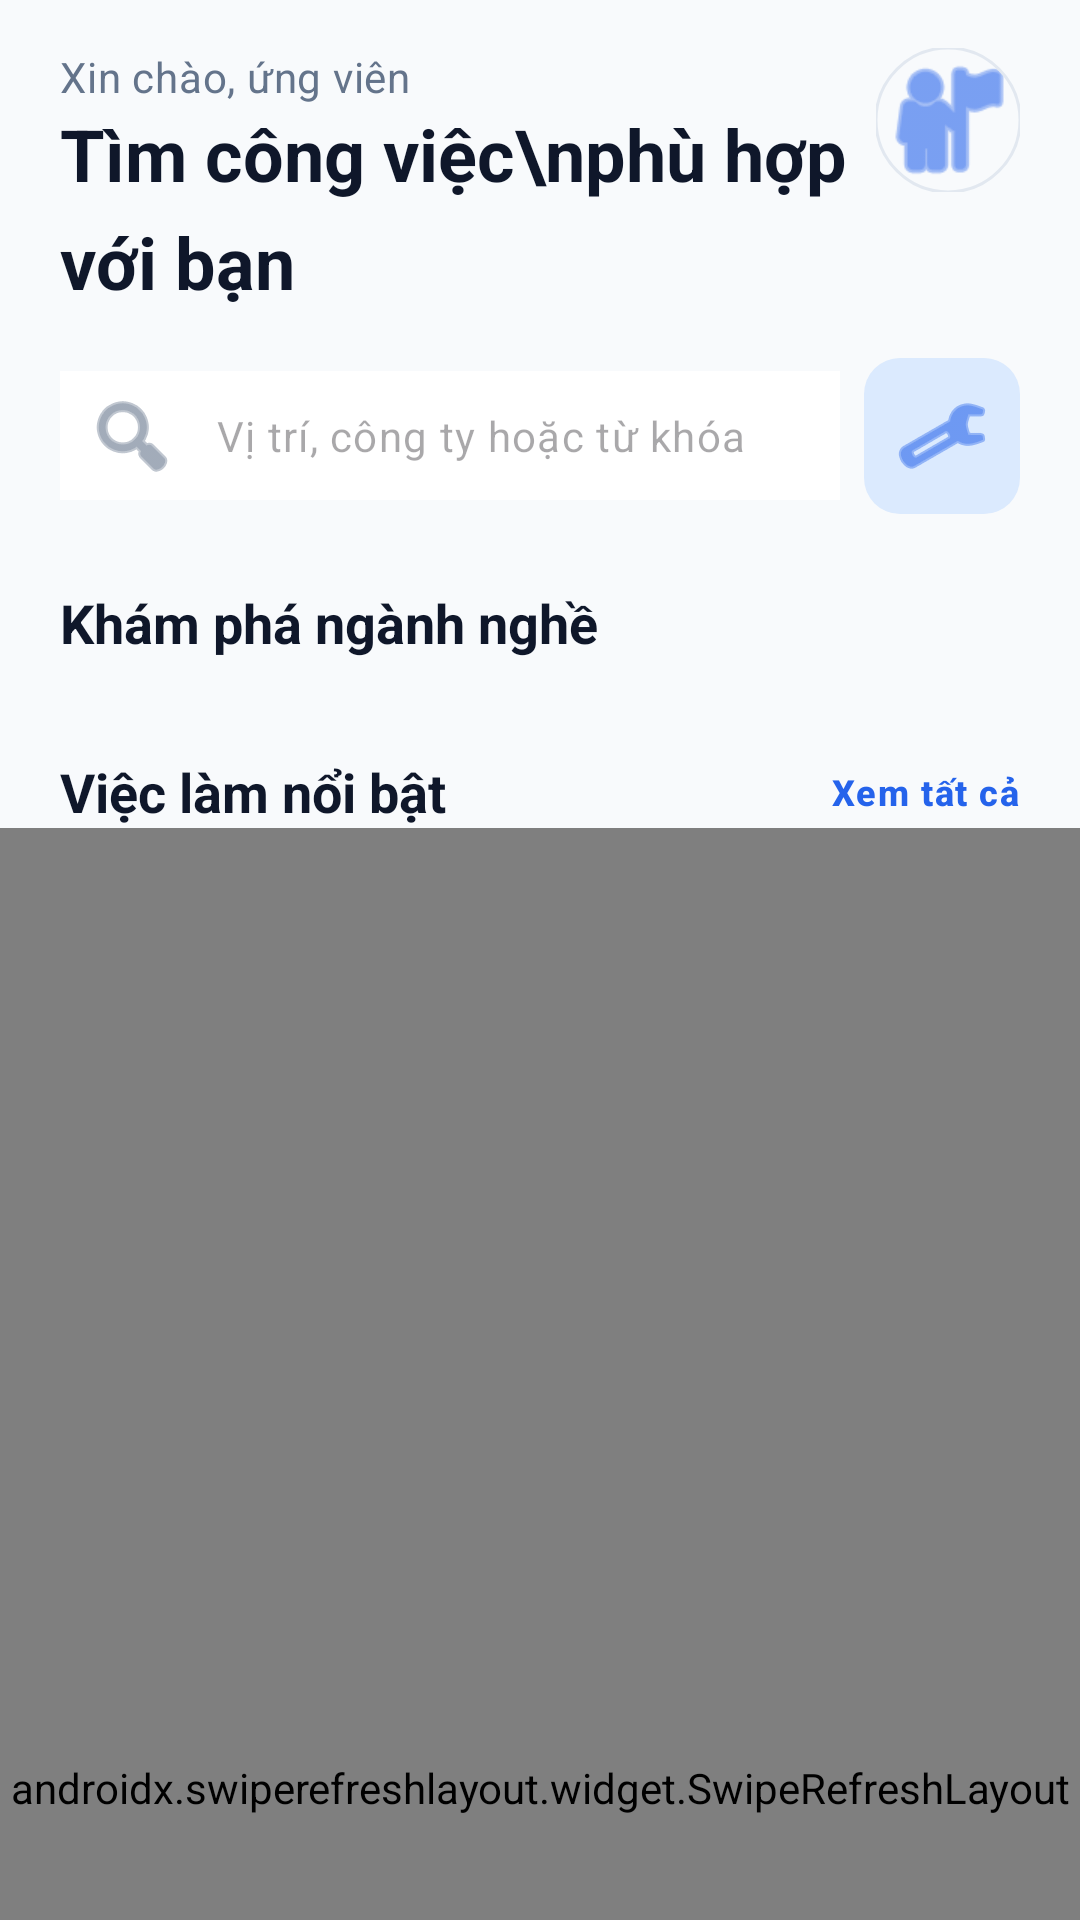

Named icons in this screenshot (1080×1920) and their bounding boxes, (x1, y1, x2, y2):
myplaces: (895, 66, 1004, 174)
